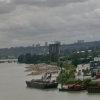Boat: (23, 73, 58, 93)
